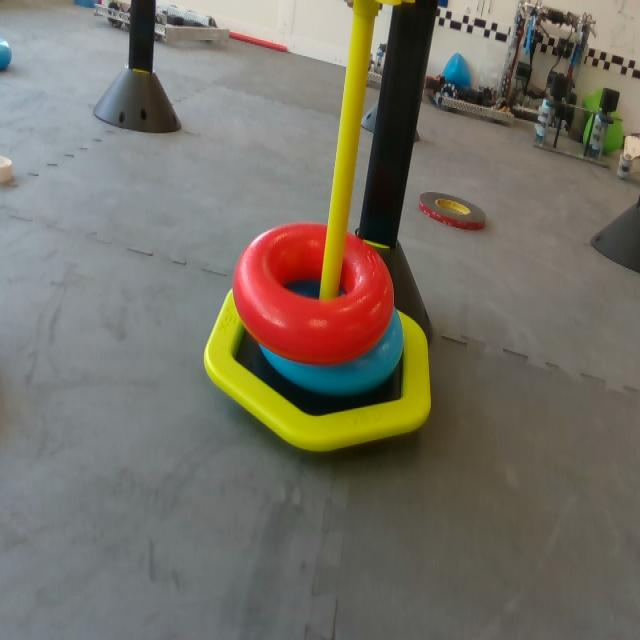Blue-Ring: (255, 312, 406, 404), (0, 37, 14, 73)
Mobile-Goal: (203, 0, 436, 452)
Red-Ring: (236, 220, 398, 363)
